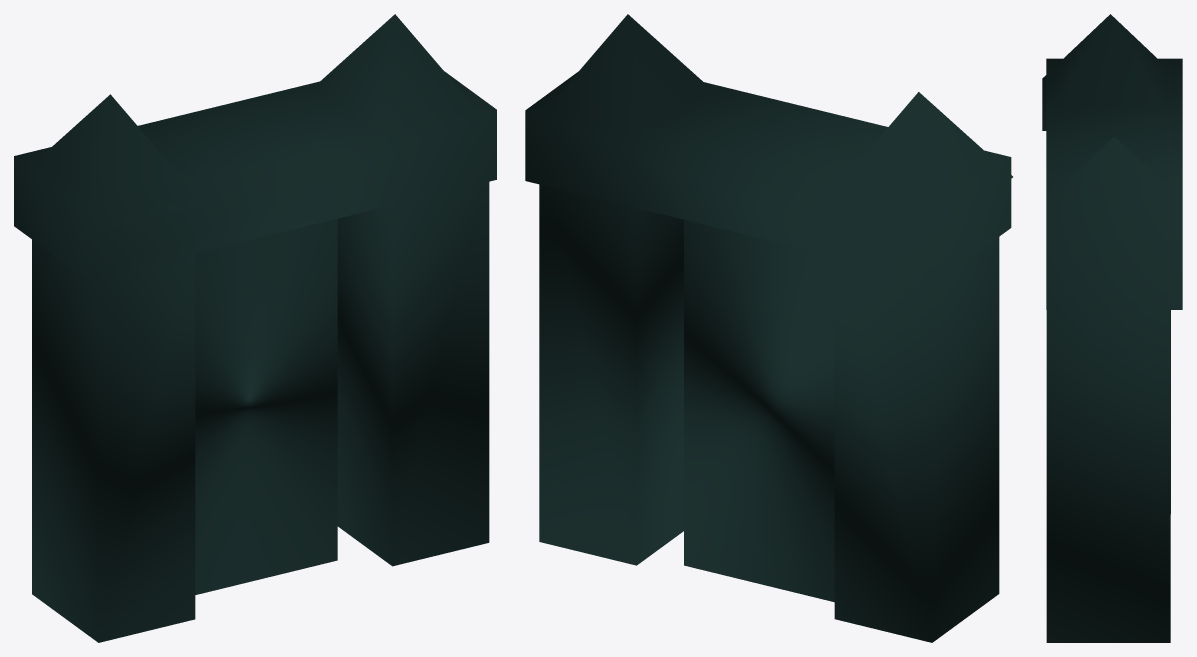
Rendered from ps2_jrpg_capital_gatehouse_fortified_entry.obj.
The picture shows the model from 3 angles, left to right: view 1: azimuth 30°, elevation 25°; view 2: azimuth 150°, elevation 25°; view 3: azimuth 270°, elevation 25°; orthographic projection. The views are drawn at different scales.
Size of the model in its own units: 2.2 by 2.7 by 0.6999.
